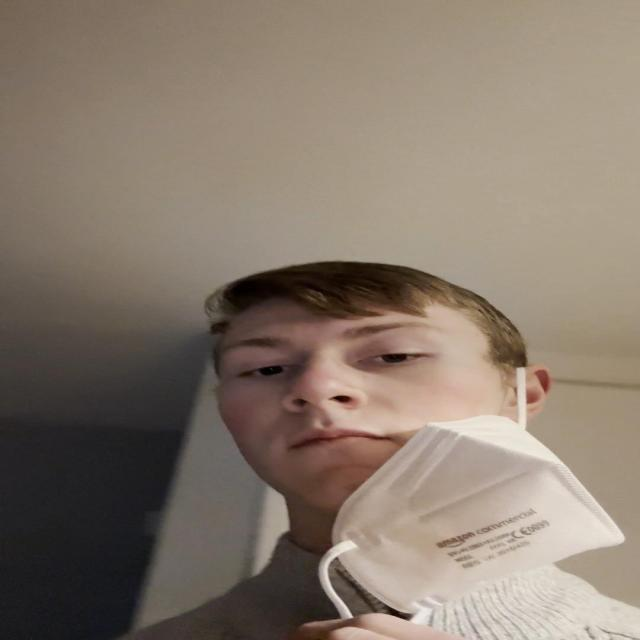no hat: (208, 275, 535, 527)
